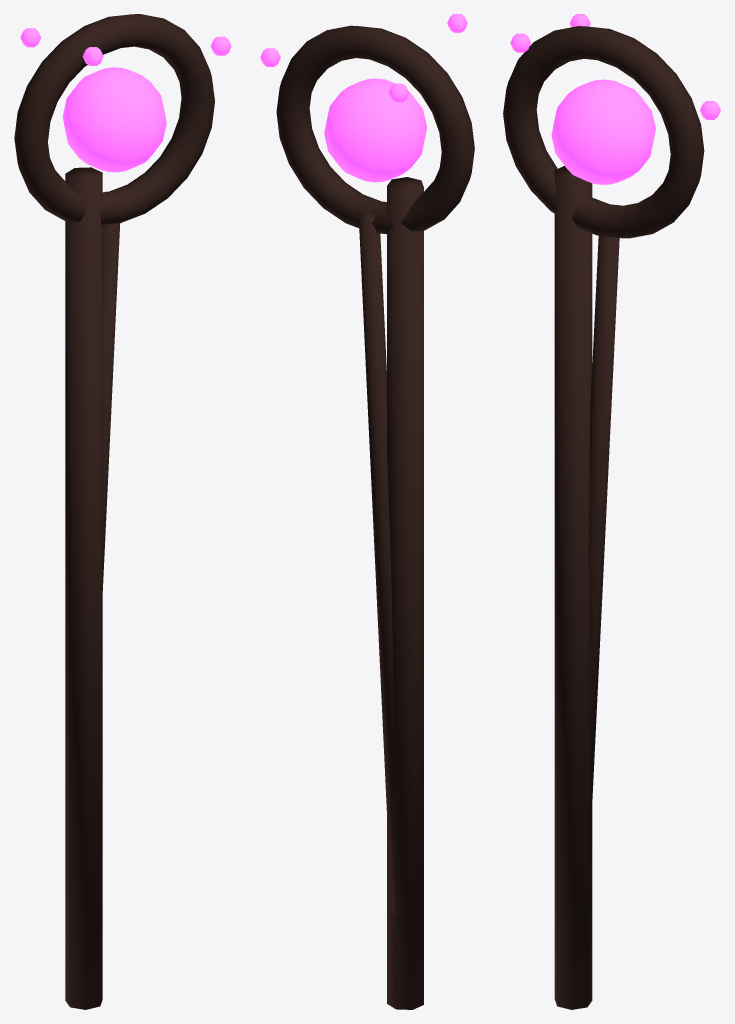
The model's file is weapon_druida_epica.glb.
3 views of the same model, side by side, from view 1: azimuth 30°, elevation 25°; view 2: azimuth 150°, elevation 25°; view 3: azimuth 330°, elevation 25° (orthographic).
Visible parts, largest first — view 1: weapon_druida_epica; view 2: weapon_druida_epica; view 3: weapon_druida_epica.
Boxes of the visible parts, x1,y1,x2,y2 form: weapon_druida_epica: (14, 14, 231, 1009); weapon_druida_epica: (260, 14, 474, 1009); weapon_druida_epica: (503, 14, 720, 1009).
Size of the model in its own units: 0.7005 by 3.09 by 0.407.
